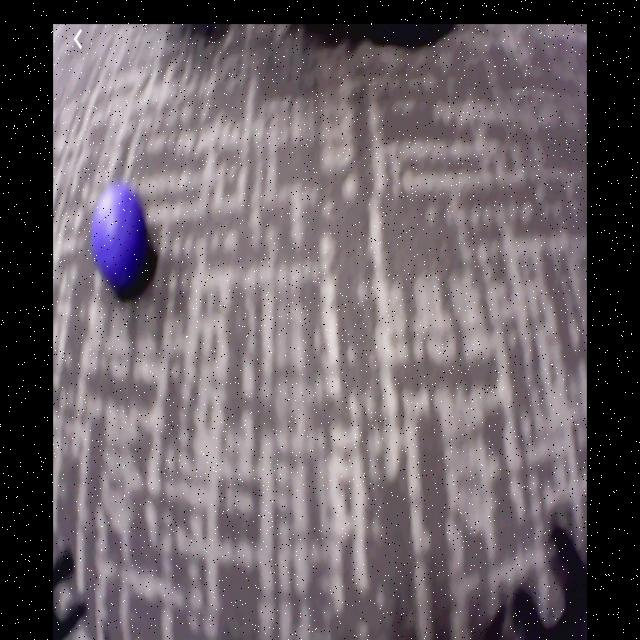ball: (93, 186, 149, 286)
